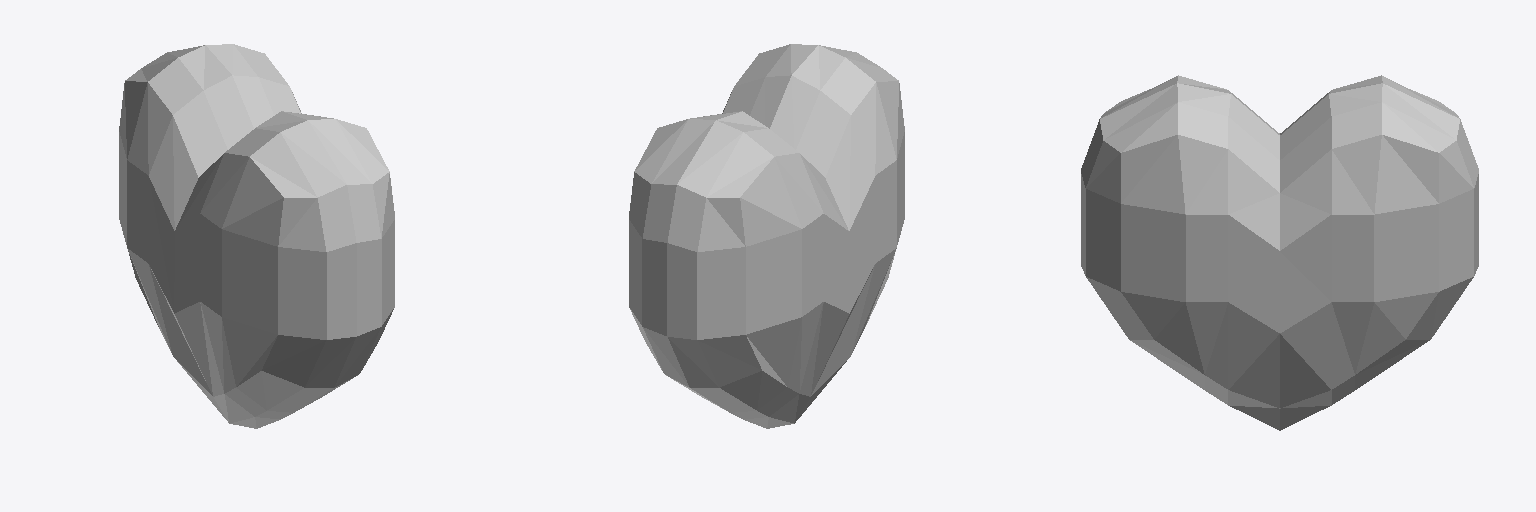
The model's file is heart4rtcg_1.obj.
3 views of the same model, side by side, from view 1: azimuth 30°, elevation 25°; view 2: azimuth 150°, elevation 25°; view 3: azimuth 270°, elevation 25° (orthographic).
Visible parts, largest first — view 1: Cube; view 2: Cube; view 3: Cube.
Part boxes in pixels (left/top/right/bottom): Cube: left=119, top=44, right=394, bottom=428; Cube: left=629, top=44, right=904, bottom=428; Cube: left=1081, top=75, right=1478, bottom=430.
Bounding box in the file's own units: 2 × 4.06 × 4.23.